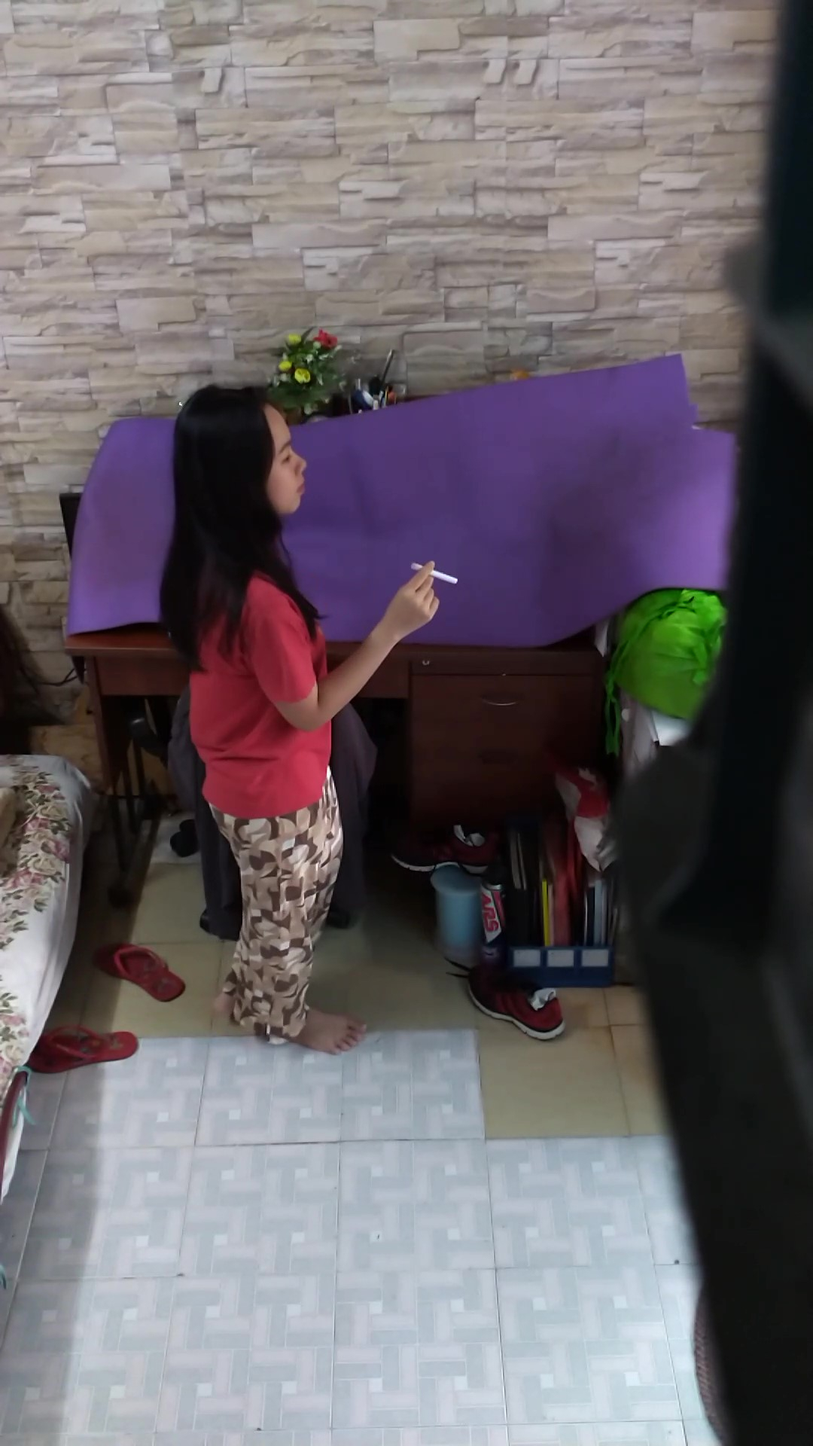cigarette: (431, 566, 463, 590)
person: (163, 384, 448, 1067)
